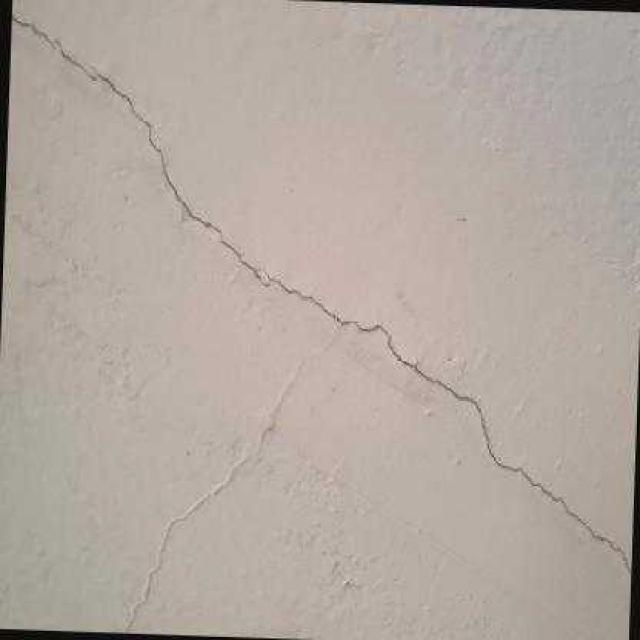D00: (263, 271, 631, 578), (10, 13, 269, 285)
